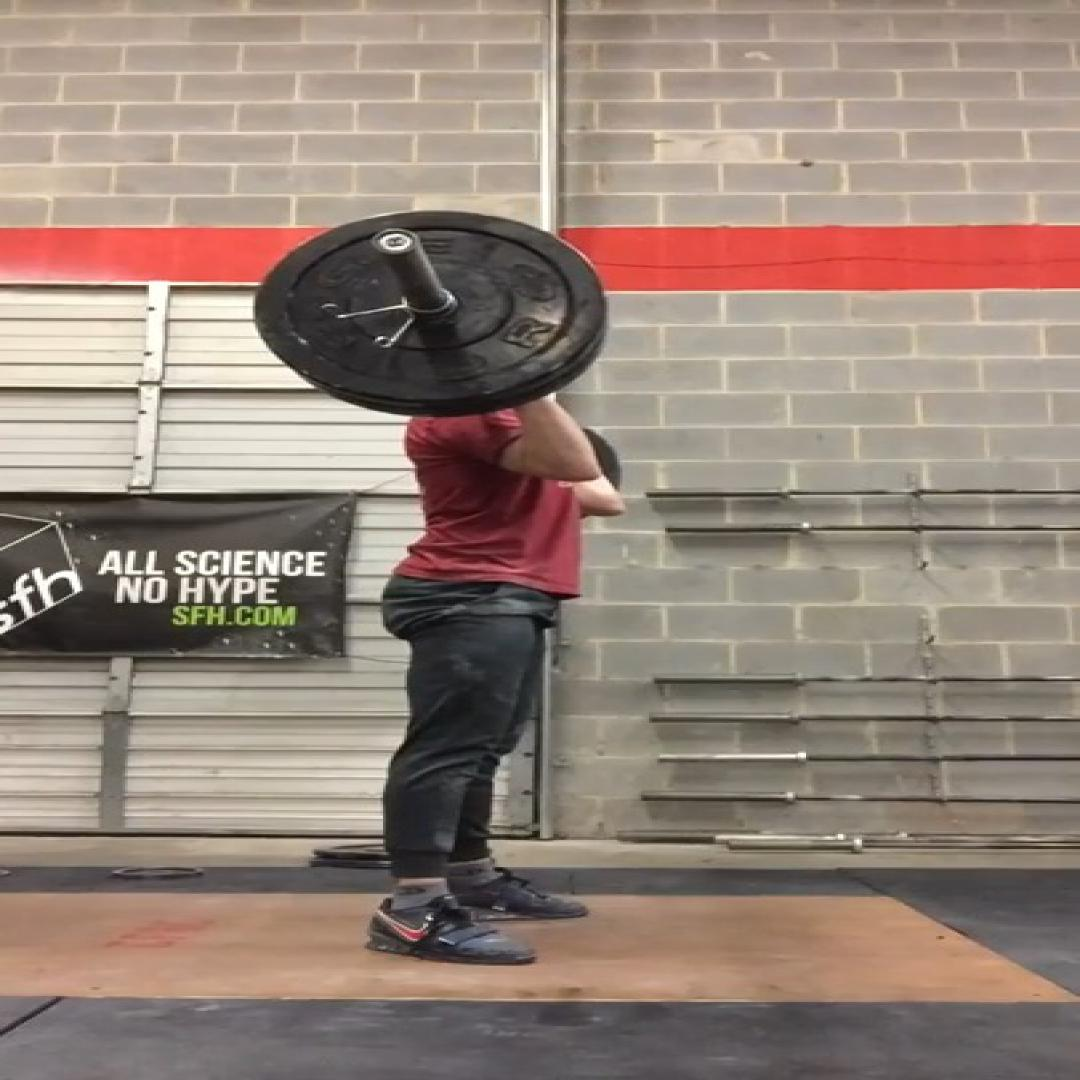Bar: (370, 228, 420, 254)
Barbell: (253, 210, 609, 400)
